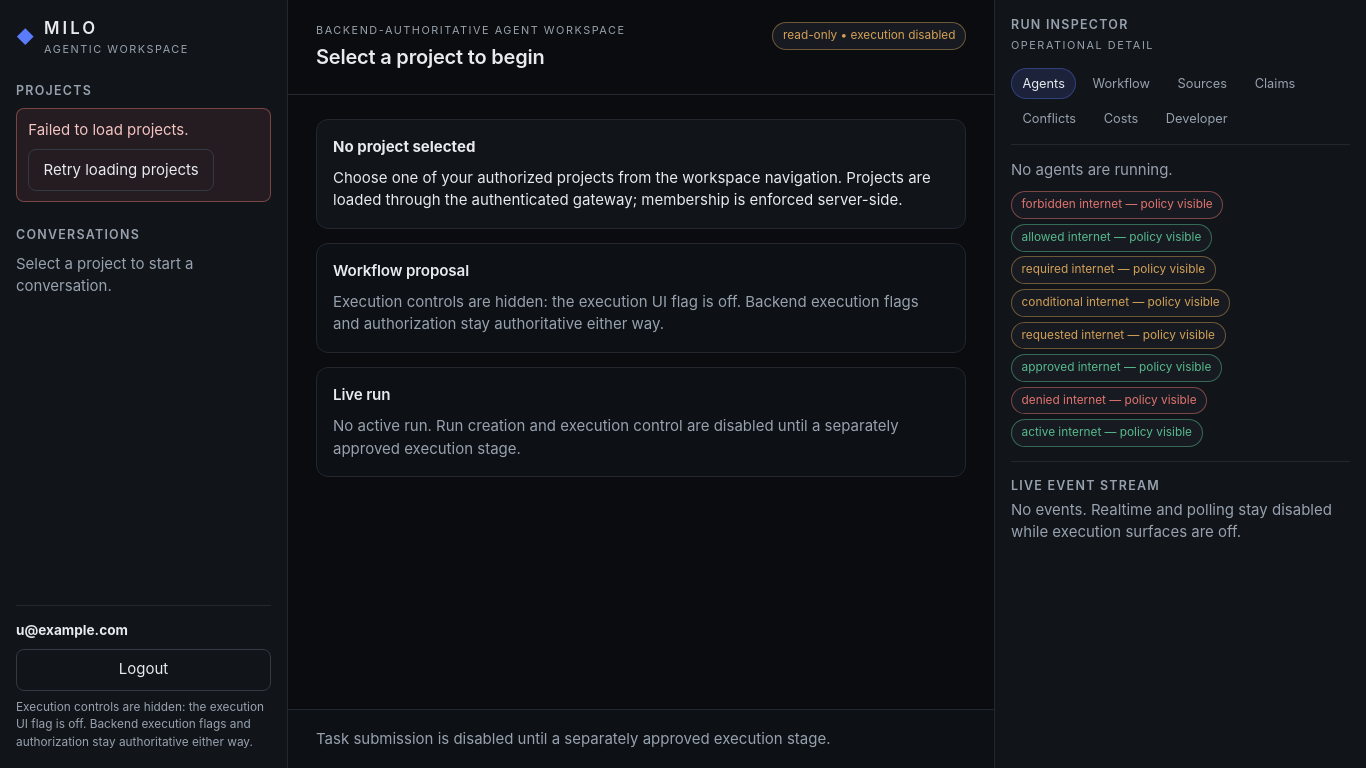
Test case: authenticated workspace (execution UI disabled) › shows a retryable error state when project loading fails
The image size is (1366, 768).
Expected: the message shows "Failed to load projects.", [28,120,189,139]
Expected: the message does not show "403 gateway rejected", [16,108,271,202]
Step 1. Click the button "Retry loading projects" → click(121, 170), box [28,149,214,191]
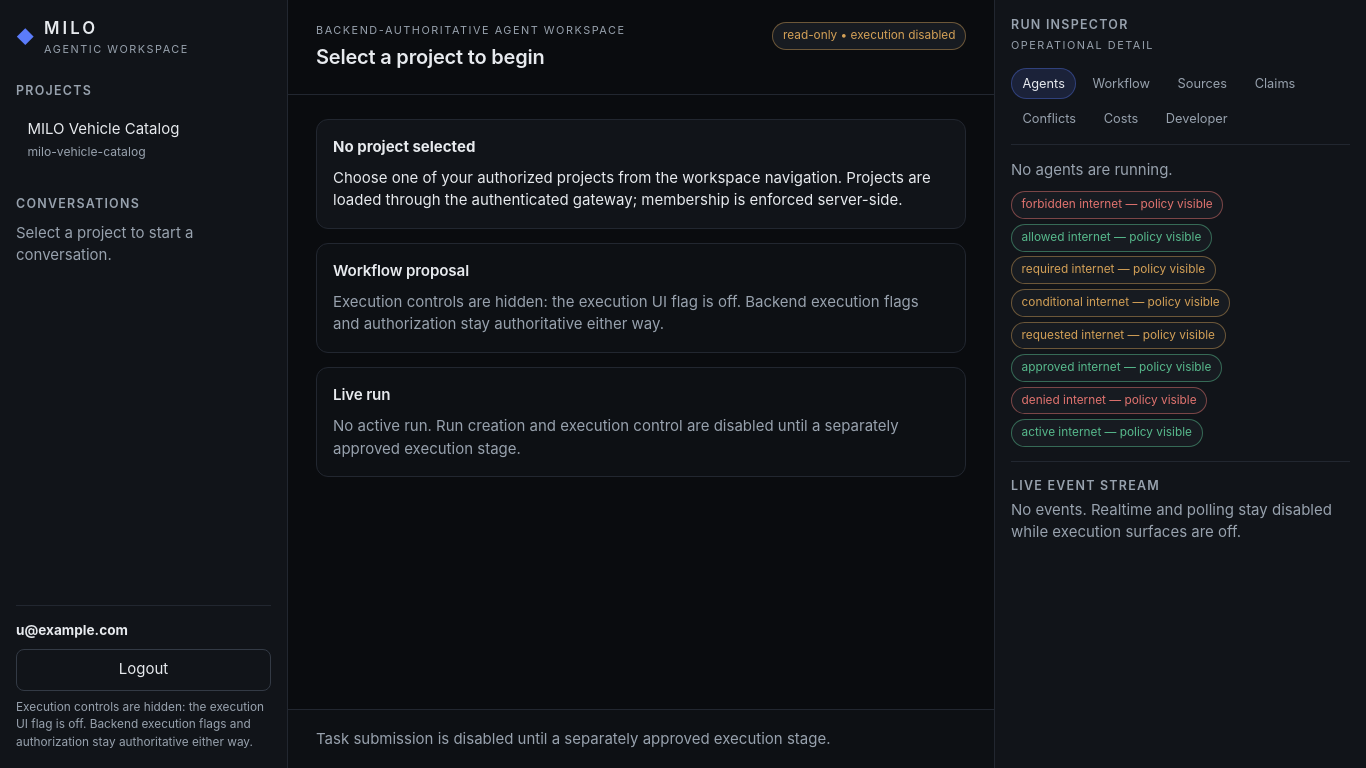
Expected: the text "MILO Vehicle Catalog" is shown, [27,119,179,138]
